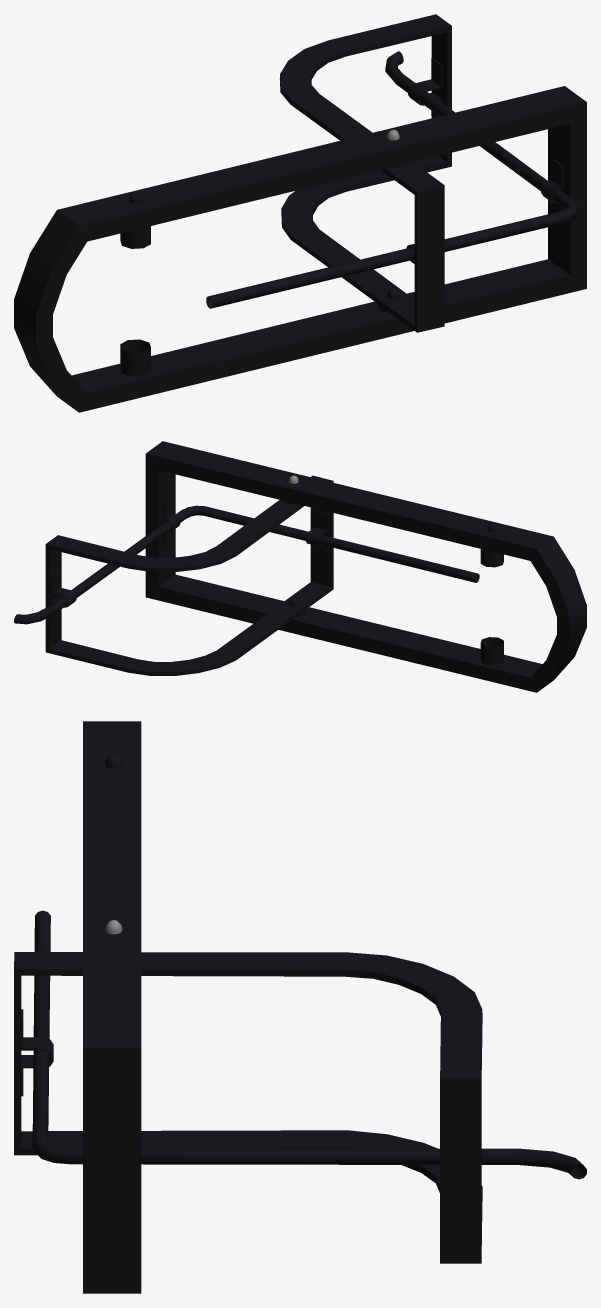
Rendered from Sonderanfertigung_x825_y0.obj.
The picture shows the model from 3 angles, top to bottom: view 1: azimuth 30°, elevation 25°; view 2: azimuth 150°, elevation 25°; view 3: azimuth 270°, elevation 25°; orthographic projection. The views are drawn at different scales.
Visible parts, largest first — view 1: BezierCurve.006, BezierCurve.007, BezierCurve.008, BezierCurve.015, BezierCurve.011, BezierCurve.009; view 2: BezierCurve.006, BezierCurve.007, BezierCurve.008, BezierCurve.015, BezierCurve.010, BezierCurve.011, BezierCurve.009; view 3: BezierCurve.006, BezierCurve.007, BezierCurve.008, BezierCurve.010.
Part boxes in pixels (x1,y1,x2,y2): BezierCurve.006: (14,86,586,412); BezierCurve.007: (279,14,451,332); BezierCurve.008: (206,51,578,308); BezierCurve.015: (120,192,150,376); BezierCurve.011: (408,58,442,117); BezierCurve.009: (541,159,563,223); BezierCurve.006: (145,441,586,692); BezierCurve.007: (45,475,333,675); BezierCurve.008: (14,505,479,624); BezierCurve.015: (480,524,503,665); BezierCurve.010: (306,510,328,558); BezierCurve.011: (50,570,76,620); BezierCurve.009: (163,497,180,547); BezierCurve.006: (83,721,141,1293); BezierCurve.007: (14,952,482,1263); BezierCurve.008: (32,910,586,1179); BezierCurve.010: (21,1009,53,1096).
Bounding box in the file's own units: 1.04 × 0.3648 × 0.7089.
Materials: 2 (2 with a texture image).
